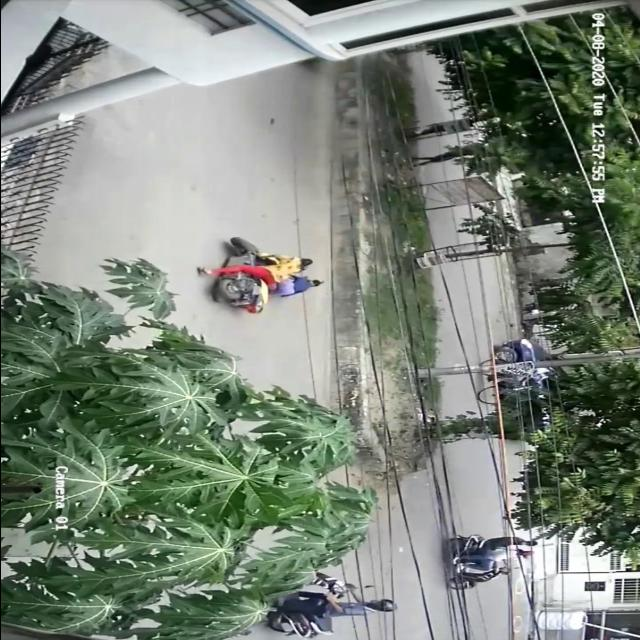accident: (189, 231, 327, 317)
